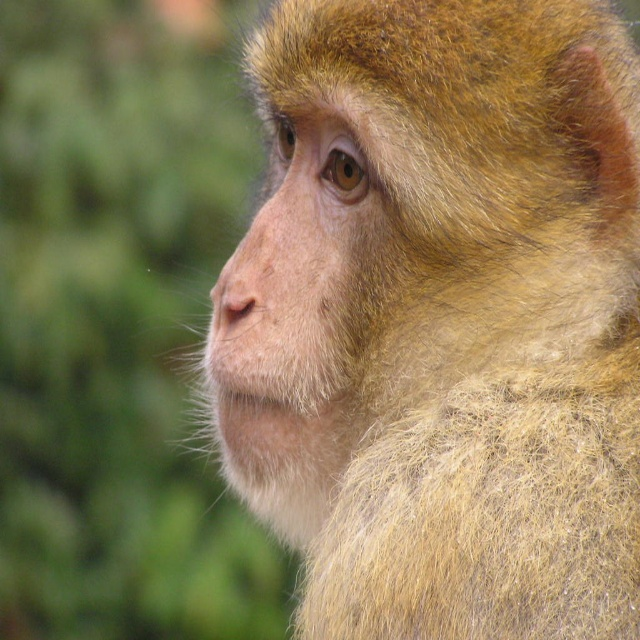Monkey: (153, 0, 639, 639)
